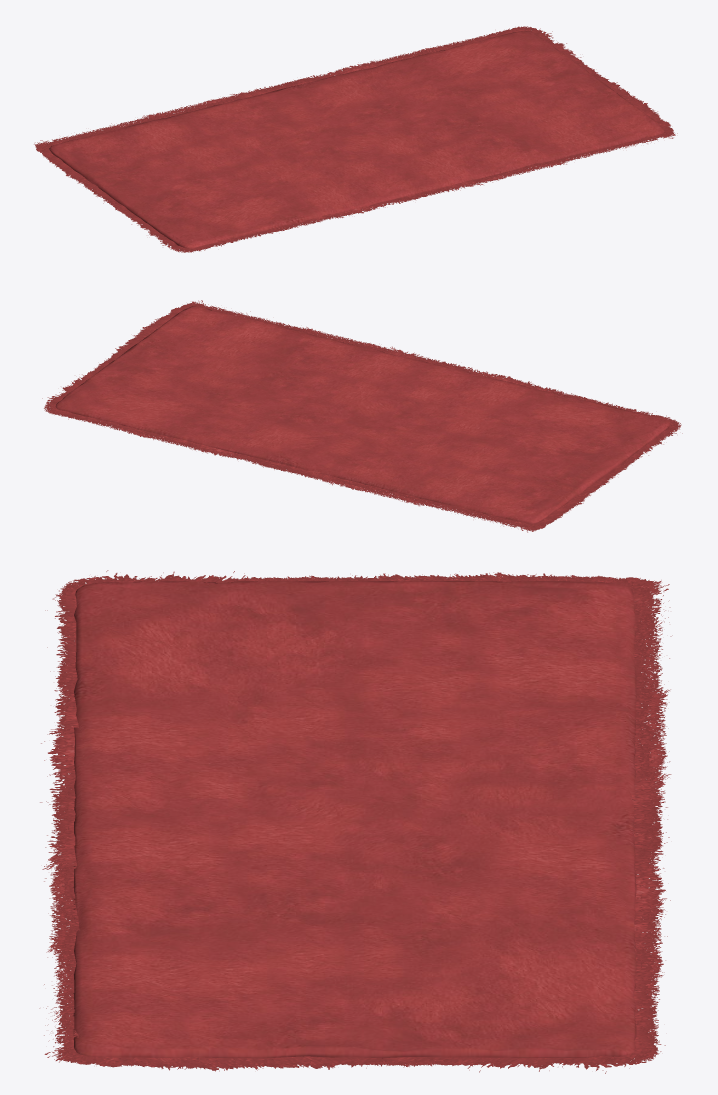
The picture shows the model from 3 angles, top to bottom: view 1: azimuth 30°, elevation 25°; view 2: azimuth 150°, elevation 25°; view 3: azimuth 270°, elevation 25°; orthographic projection. The views are drawn at different scales.
Parts seen in each view (by area): view 1: Cima, Pelos, Pelos.004, Pelos.001, Pelos.002, Pelos.003; view 2: Cima, Pelos, Pelos.004, Pelos.002, Pelos.001; view 3: Cima, Pelos, Pelos.004, Pelos.001, Pelos.002, Pelos.003.
Boxes of the visible parts, x1,y1,x2,y2 form: Cima: (49, 30, 664, 248); Pelos: (37, 27, 677, 251); Pelos.004: (34, 77, 310, 203); Pelos.001: (392, 76, 675, 201); Pelos.002: (248, 26, 601, 93); Pelos.003: (102, 197, 391, 252); Cima: (55, 306, 670, 523); Pelos: (42, 300, 682, 530); Pelos.004: (258, 463, 615, 532); Pelos.002: (44, 357, 321, 479); Pelos.001: (111, 300, 468, 372); Cima: (73, 581, 636, 1058); Pelos: (39, 570, 672, 1073); Pelos.004: (341, 574, 670, 854); Pelos.001: (46, 787, 382, 1068); Pelos.002: (347, 790, 667, 1068); Pelos.003: (53, 575, 370, 850).
Size of the model in its own units: 109 by 0.9963 by 58.94.
2 materials, 2 textured.
